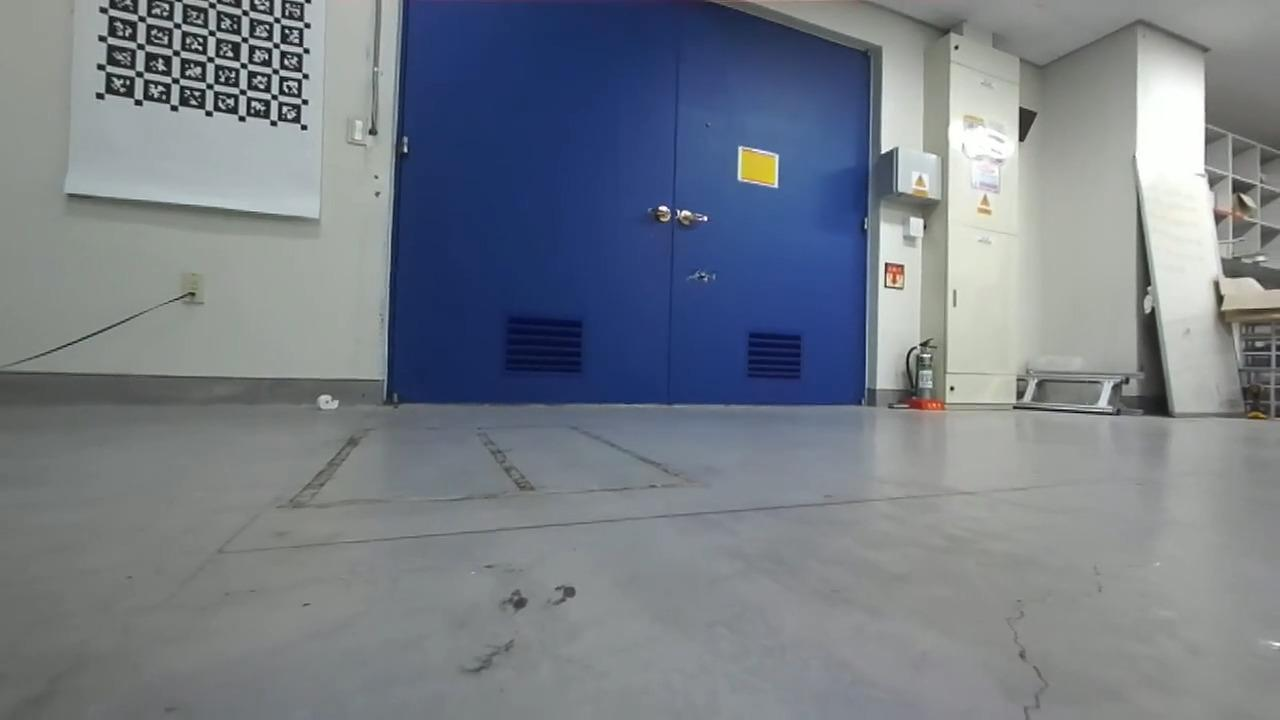crazyflie: (679, 262, 727, 289)
